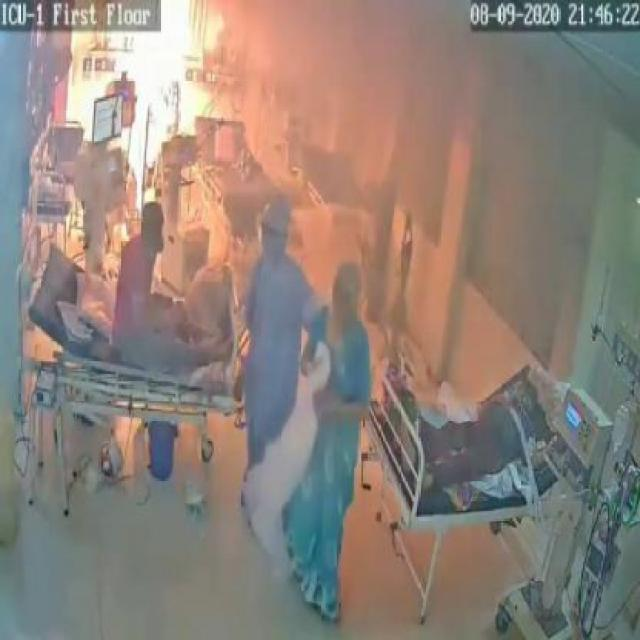fire: (120, 10, 194, 156)
smoke: (291, 8, 564, 236)
